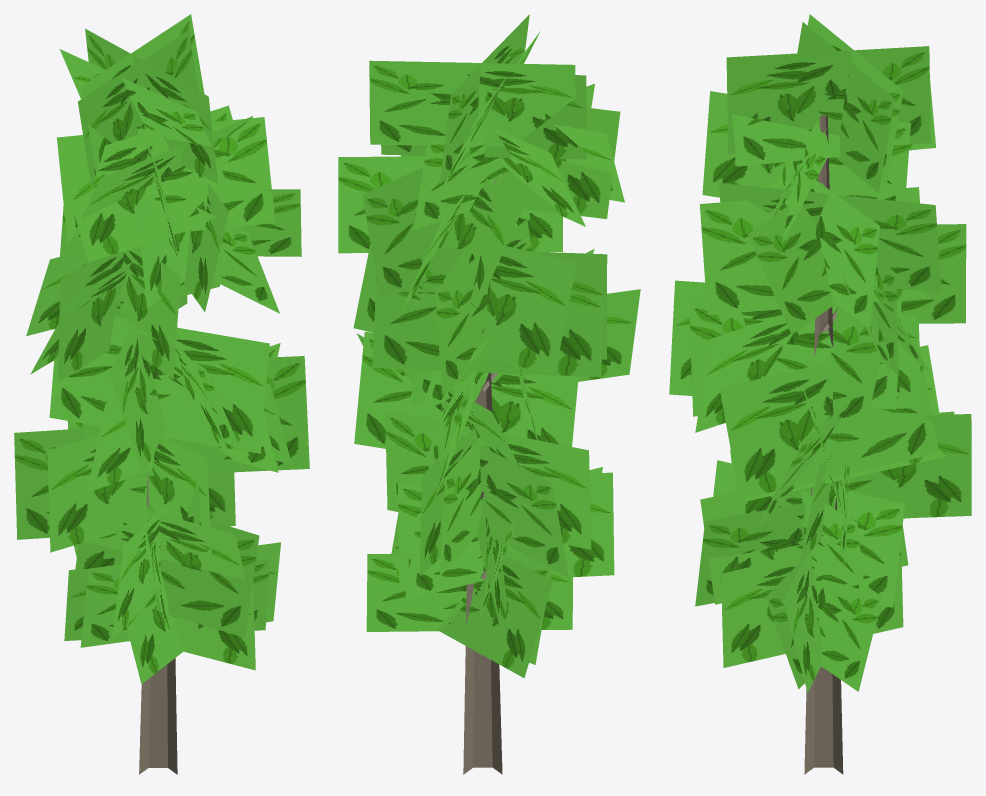
File: alamo.glb
3 views of the same model, side by side, from view 1: azimuth 30°, elevation 25°; view 2: azimuth 150°, elevation 25°; view 3: azimuth 270°, elevation 25° (orthographic).
Visible parts, largest first — view 1: alamo2; view 2: alamo2; view 3: alamo2.
Boxes of the visible parts, x1,y1,x2,y2 form: alamo2: (14,14,309,774); alamo2: (338,14,640,774); alamo2: (669,14,971,774).
Bounding box in the file's own units: 3.71 × 9.82 × 3.74.
Materials: 2 (1 with a texture image).
